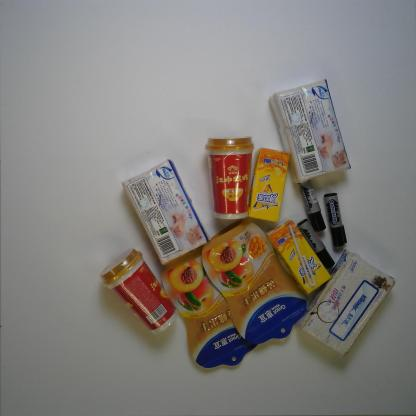Dried Fruit: (200, 214, 308, 346), (159, 238, 264, 370)
Drink: (264, 216, 332, 295), (245, 145, 292, 226)
Instant Drink: (97, 247, 181, 336), (202, 133, 255, 222)
Stationery: (295, 217, 336, 271), (294, 173, 327, 235), (323, 191, 349, 249)
Tissue: (293, 247, 396, 360), (118, 157, 212, 268), (269, 77, 352, 187)
